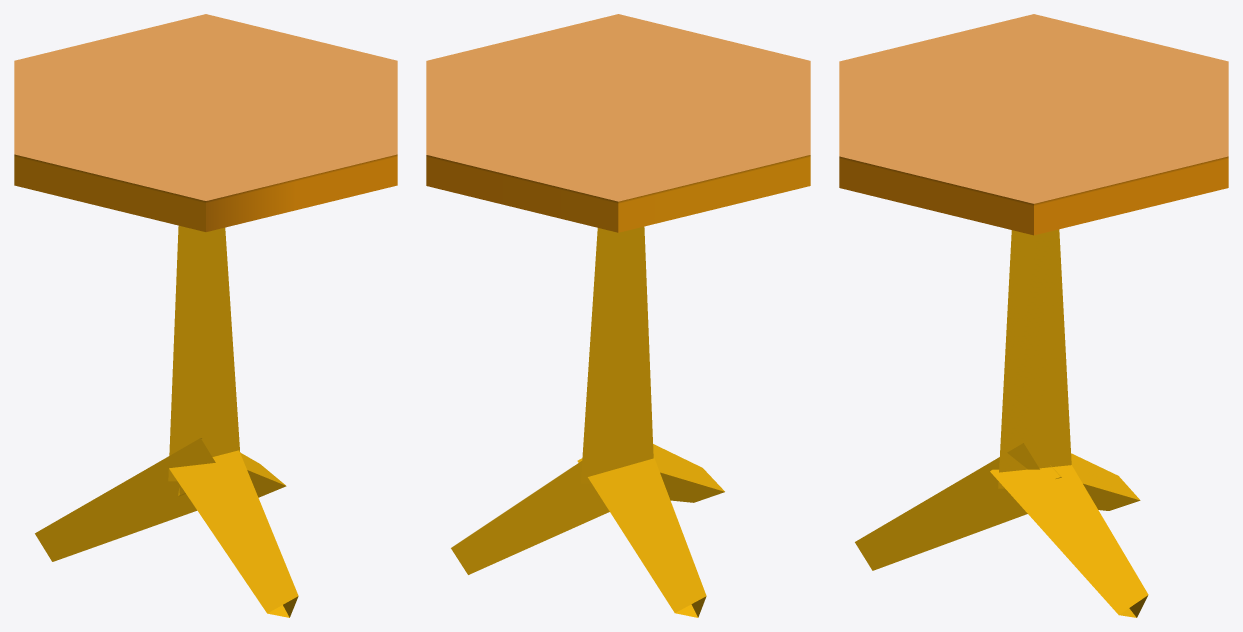
Rendered from Tisch_RundGrün [Juwellier]_2893.glb.
3 views of the same model, side by side, from view 1: azimuth 30°, elevation 25°; view 2: azimuth 150°, elevation 25°; view 3: azimuth 270°, elevation 25° (orthographic).
Parts seen in each view (by area): view 1: polySurfaceShape1072, pCylinderShape95, pCylinderShape94, pCylinderShape96, pCylinderShape98, pCylinderShape97; view 2: polySurfaceShape1072, pCylinderShape95, pCylinderShape94, pCylinderShape98, pCylinderShape97, pCylinderShape96; view 3: polySurfaceShape1072, pCylinderShape95, pCylinderShape94, pCylinderShape97, pCylinderShape96, pCylinderShape98.
Boxes of the visible parts, bbox=[...] form: polySurfaceShape1072: bbox=[14, 14, 397, 200]; pCylinderShape95: bbox=[168, 225, 240, 481]; pCylinderShape94: bbox=[14, 154, 397, 231]; pCylinderShape96: bbox=[169, 450, 298, 617]; pCylinderShape98: bbox=[35, 438, 215, 561]; pCylinderShape97: bbox=[178, 452, 286, 497]; polySurfaceShape1072: bbox=[426, 14, 810, 201]; pCylinderShape95: bbox=[580, 226, 653, 483]; pCylinderShape94: bbox=[426, 155, 810, 232]; pCylinderShape98: bbox=[577, 456, 706, 617]; pCylinderShape97: bbox=[451, 460, 609, 574]; pCylinderShape96: bbox=[653, 444, 724, 502]; polySurfaceShape1072: bbox=[839, 14, 1228, 203]; pCylinderShape95: bbox=[998, 229, 1071, 488]; pCylinderShape94: bbox=[839, 156, 1228, 235]; pCylinderShape97: bbox=[990, 465, 1148, 617]; pCylinderShape96: bbox=[855, 443, 1039, 570]; pCylinderShape98: bbox=[1050, 453, 1140, 510].
Size of the model in its own units: 0.0992 by 0.112 by 0.0859.
Materials: 6 (1 with a texture image).
